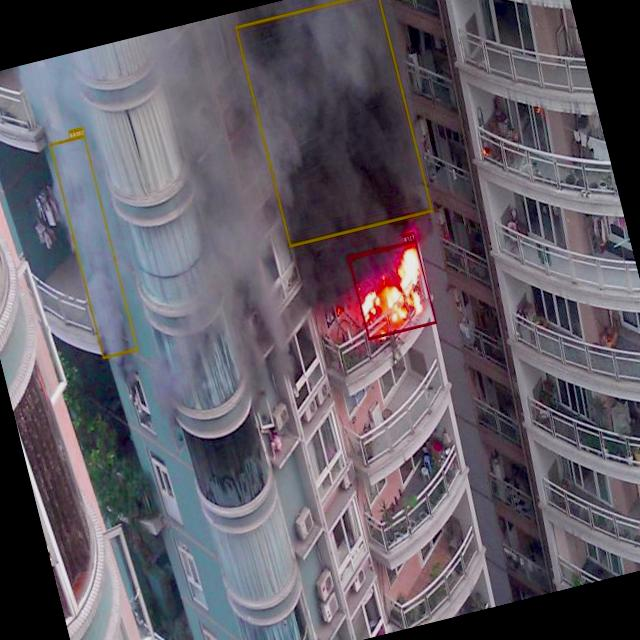fire: (348, 239, 437, 339)
smoke: (234, 0, 432, 246), (50, 134, 138, 358)
